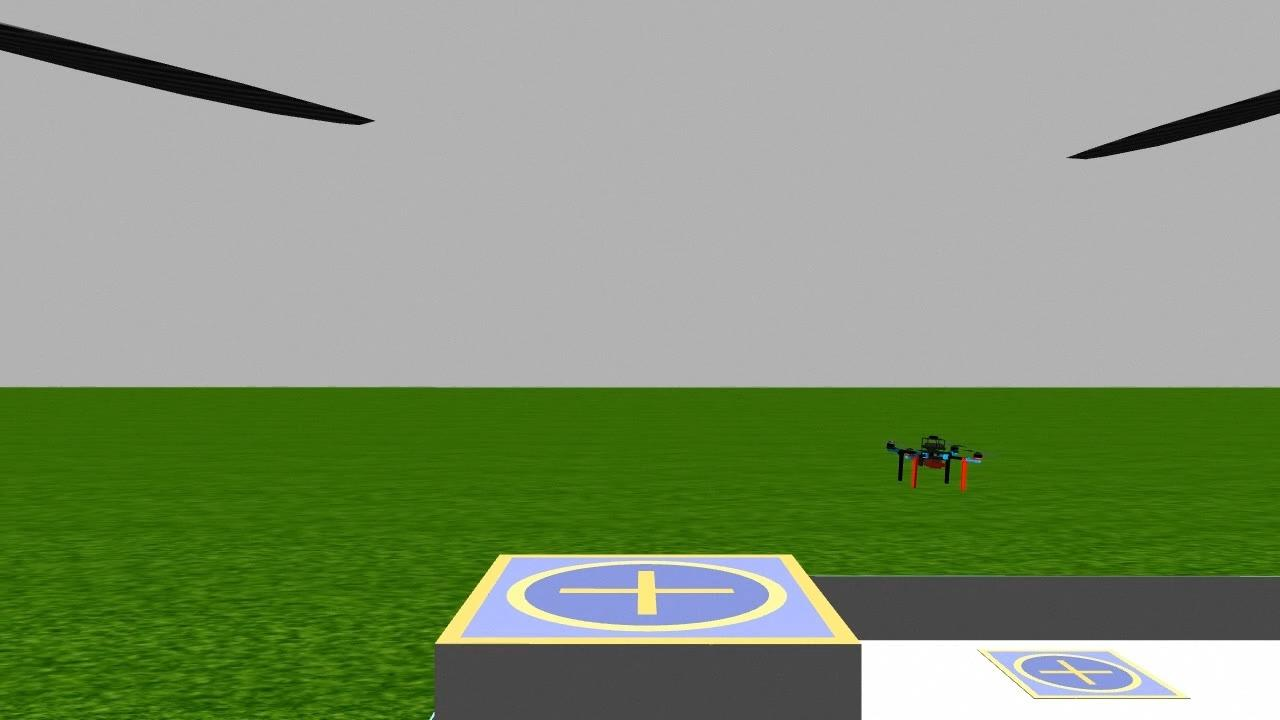UAV: (848, 424, 1016, 500)
